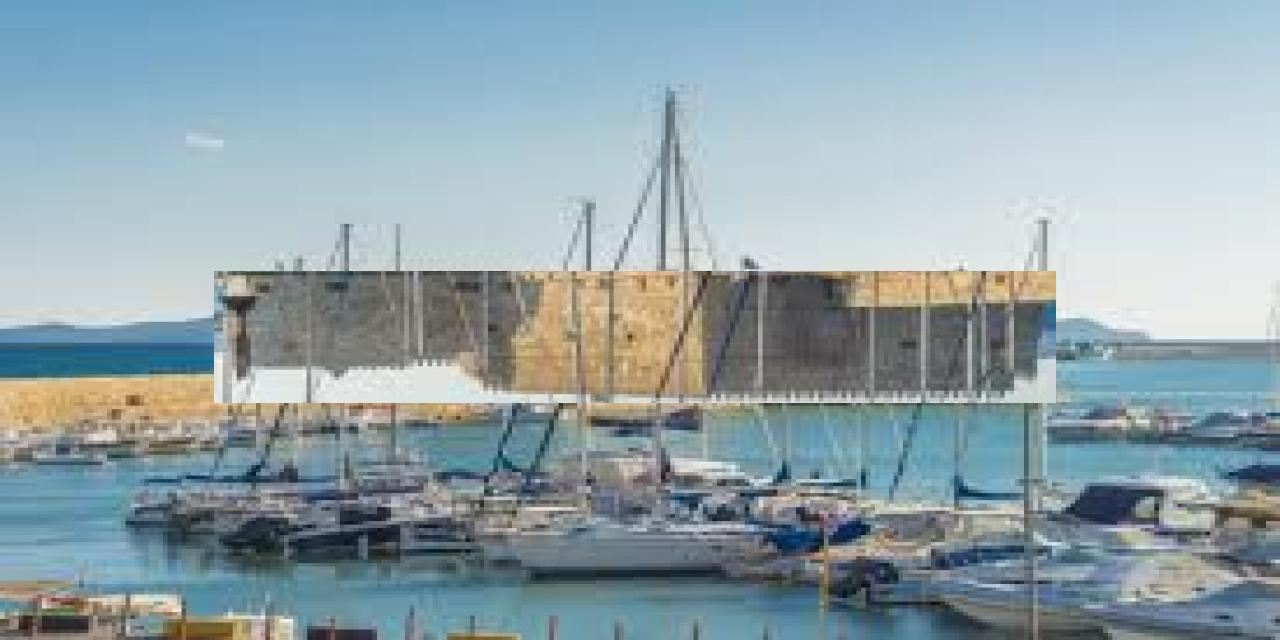Kules: (215, 272, 1057, 404)
